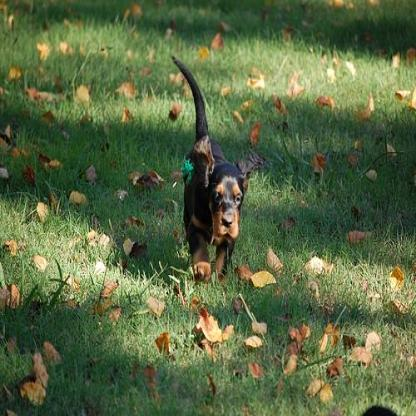Gordon_setter: (167, 49, 260, 283)
